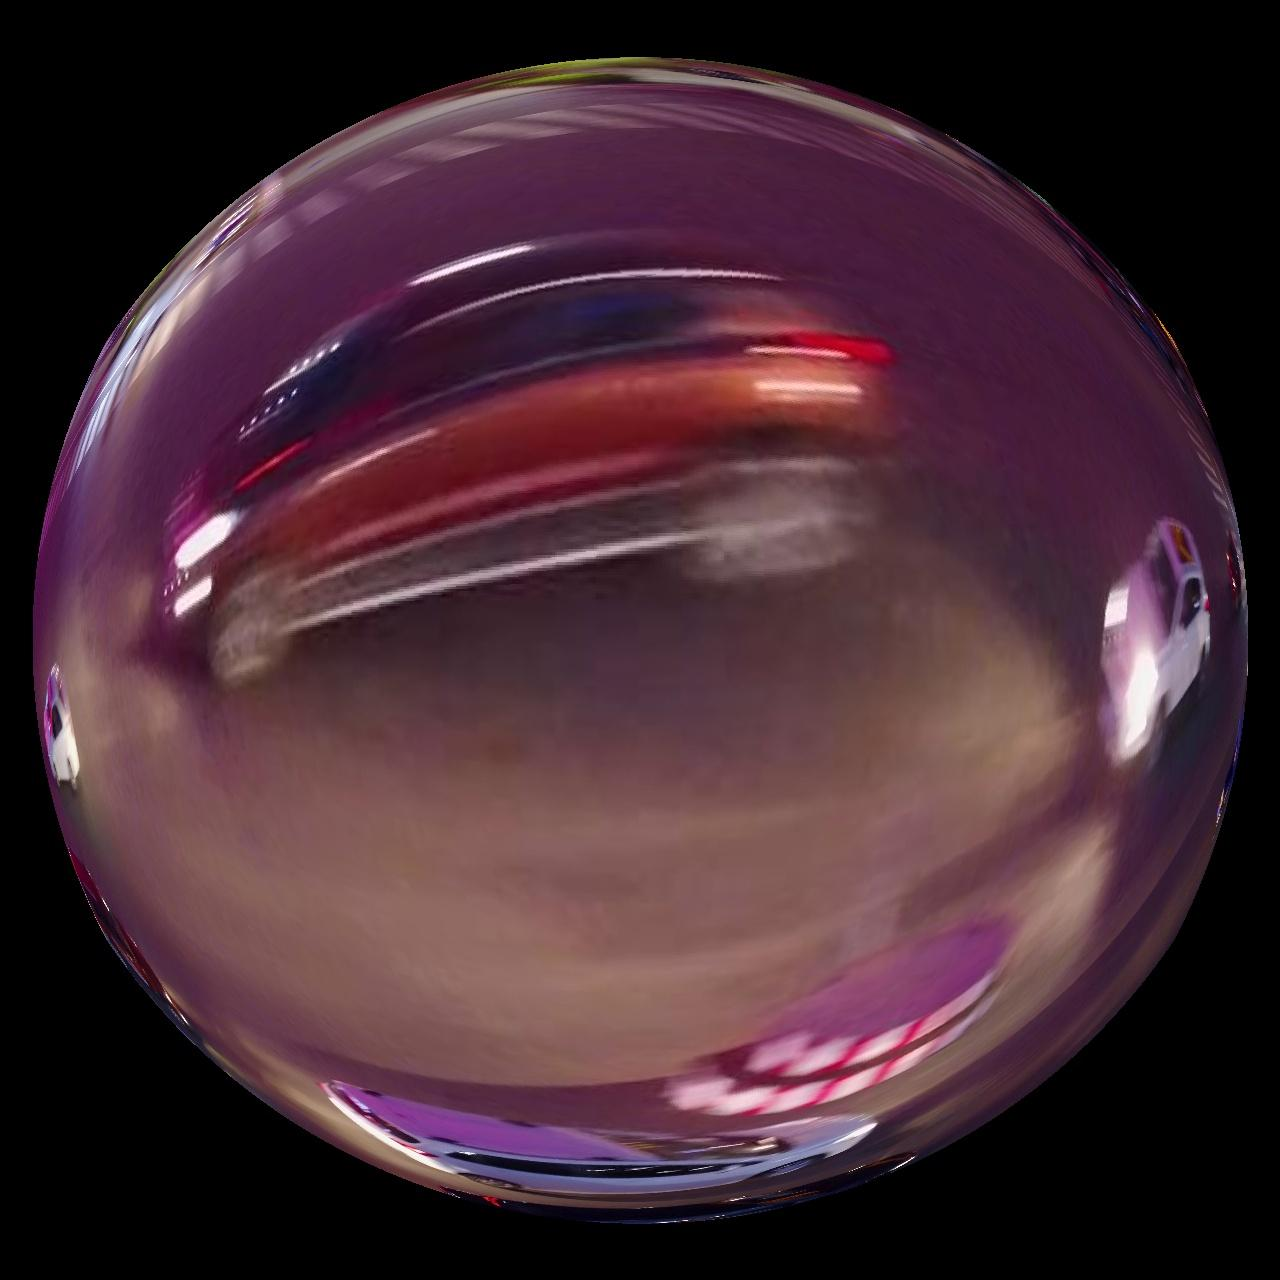cars: (159, 236, 893, 688)
